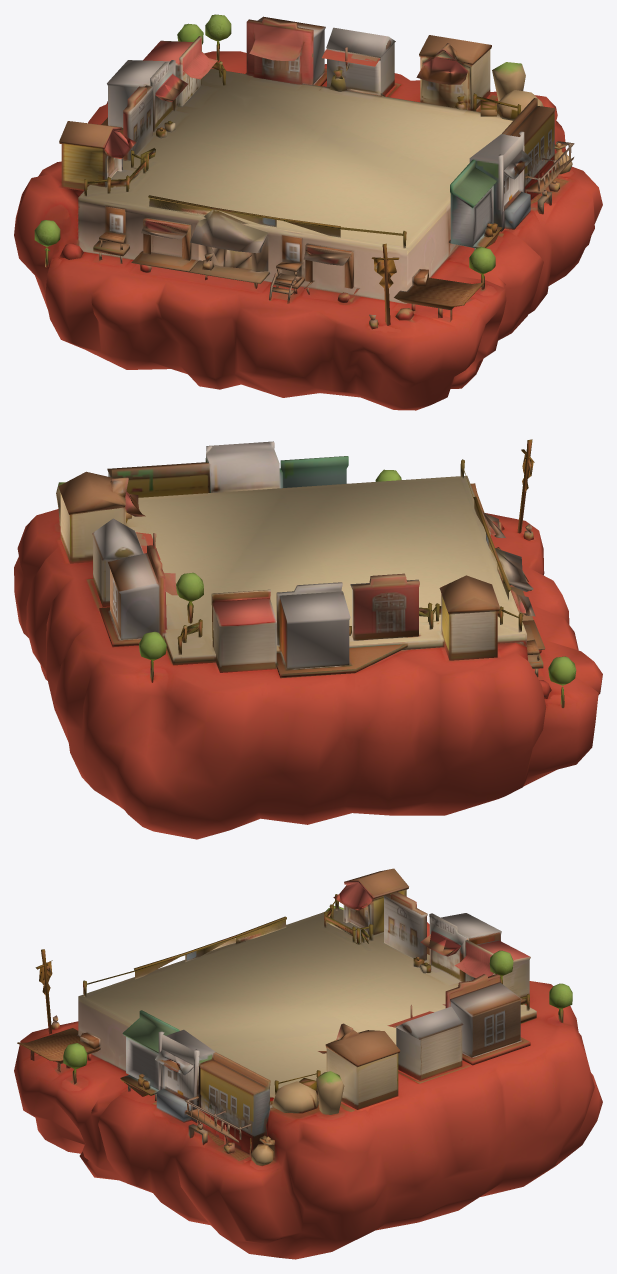
File: texas-town.glb
3 views of the same model, one above another, from view 1: azimuth 30°, elevation 25°; view 2: azimuth 150°, elevation 25°; view 3: azimuth 270°, elevation 25° (orthographic). The views are drawn at different scales.
Visible parts, largest first — view 1: tripo_node_f2d9548c-900f-4548-bf94-f92ad10faa24; view 2: tripo_node_f2d9548c-900f-4548-bf94-f92ad10faa24; view 3: tripo_node_f2d9548c-900f-4548-bf94-f92ad10faa24.
Part boxes in pixels (<box>): tripo_node_f2d9548c-900f-4548-bf94-f92ad10faa24: <box>14,14,602,410</box>; tripo_node_f2d9548c-900f-4548-bf94-f92ad10faa24: <box>14,439,602,839</box>; tripo_node_f2d9548c-900f-4548-bf94-f92ad10faa24: <box>14,868,602,1259</box>.
Size of the model in its own units: 1.16 by 0.5254 by 1.2.
Materials: 1 (1 with a texture image).
